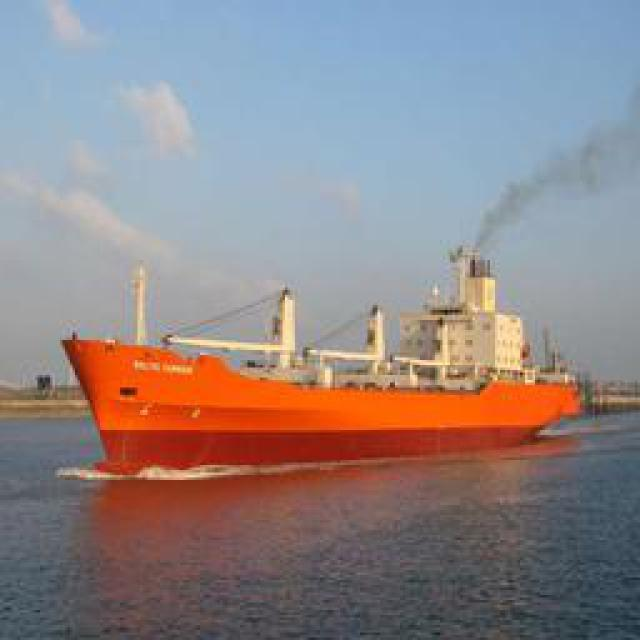Ship: (61, 236, 586, 476)
